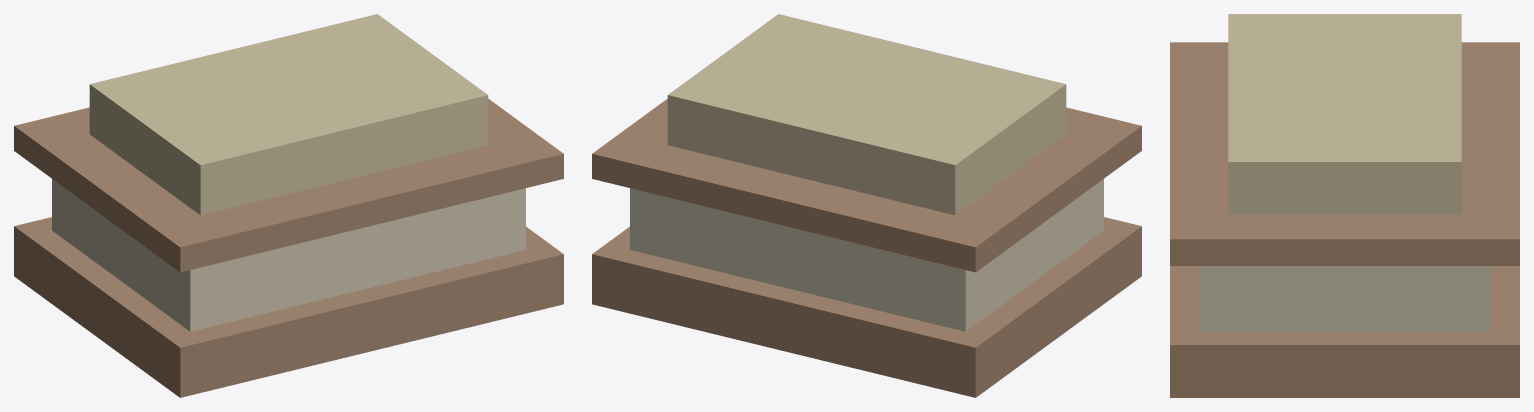
File: publishing-02.glb
The picture shows the model from 3 angles, left to right: view 1: azimuth 30°, elevation 25°; view 2: azimuth 150°, elevation 25°; view 3: azimuth 270°, elevation 25°; orthographic projection. The views are drawn at different scales.
Parts seen in each view (by area): view 1: Open manuscript; view 2: Open manuscript; view 3: Open manuscript.
Boxes of the visible parts, x1,y1,x2,y2 form: Open manuscript: (14,14,563,397); Open manuscript: (592,14,1141,397); Open manuscript: (1170,14,1519,397).
Size of the model in its own units: 1.28 by 0.64 by 0.96.
